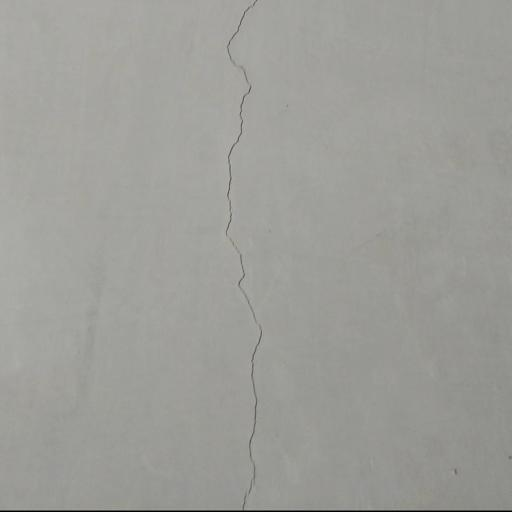minor_crack: (213, 0, 279, 512)
